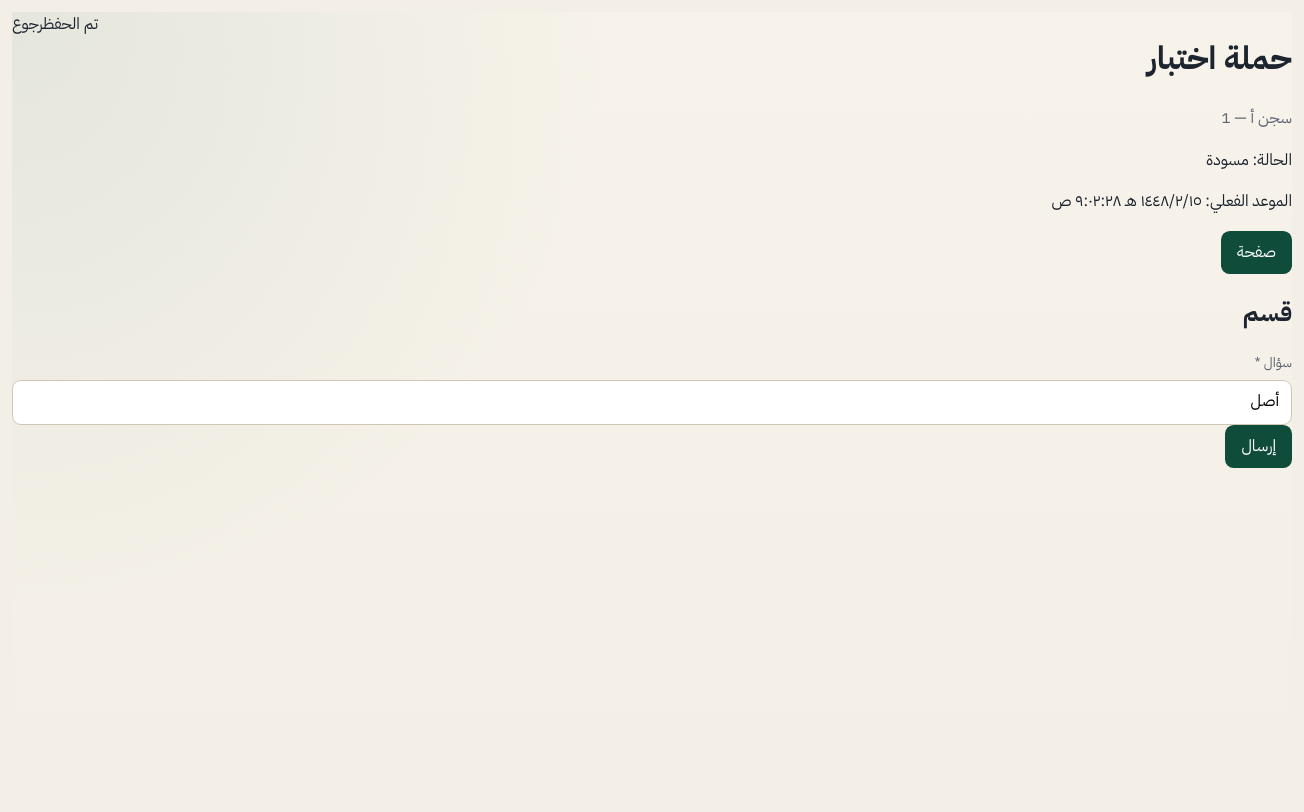
Scenario: RespondPage › submit 409 shows conflict UI instead of generic failure
Click the button "إرسال" at (1259,446), box [1225, 425, 1292, 468]
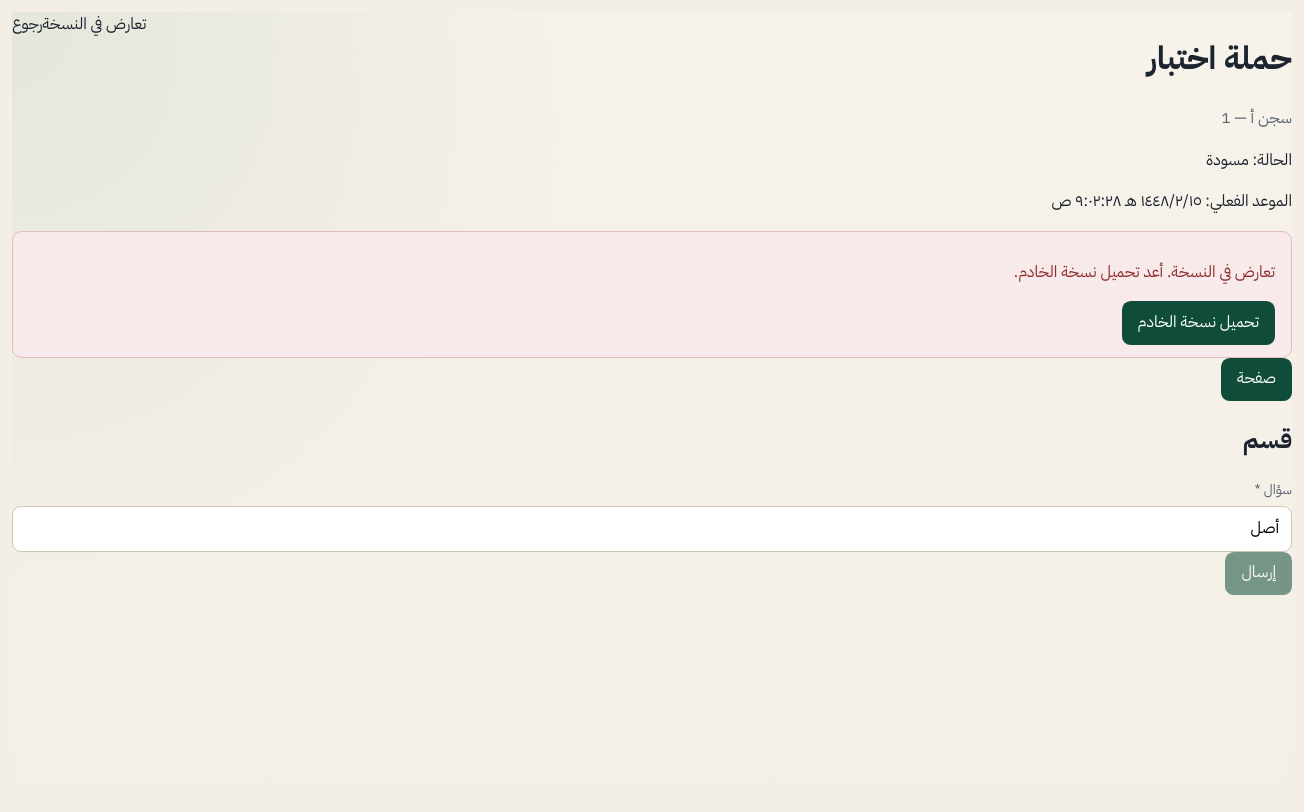
Expected: the message shows "تعارض", [1014, 260, 1275, 284]
